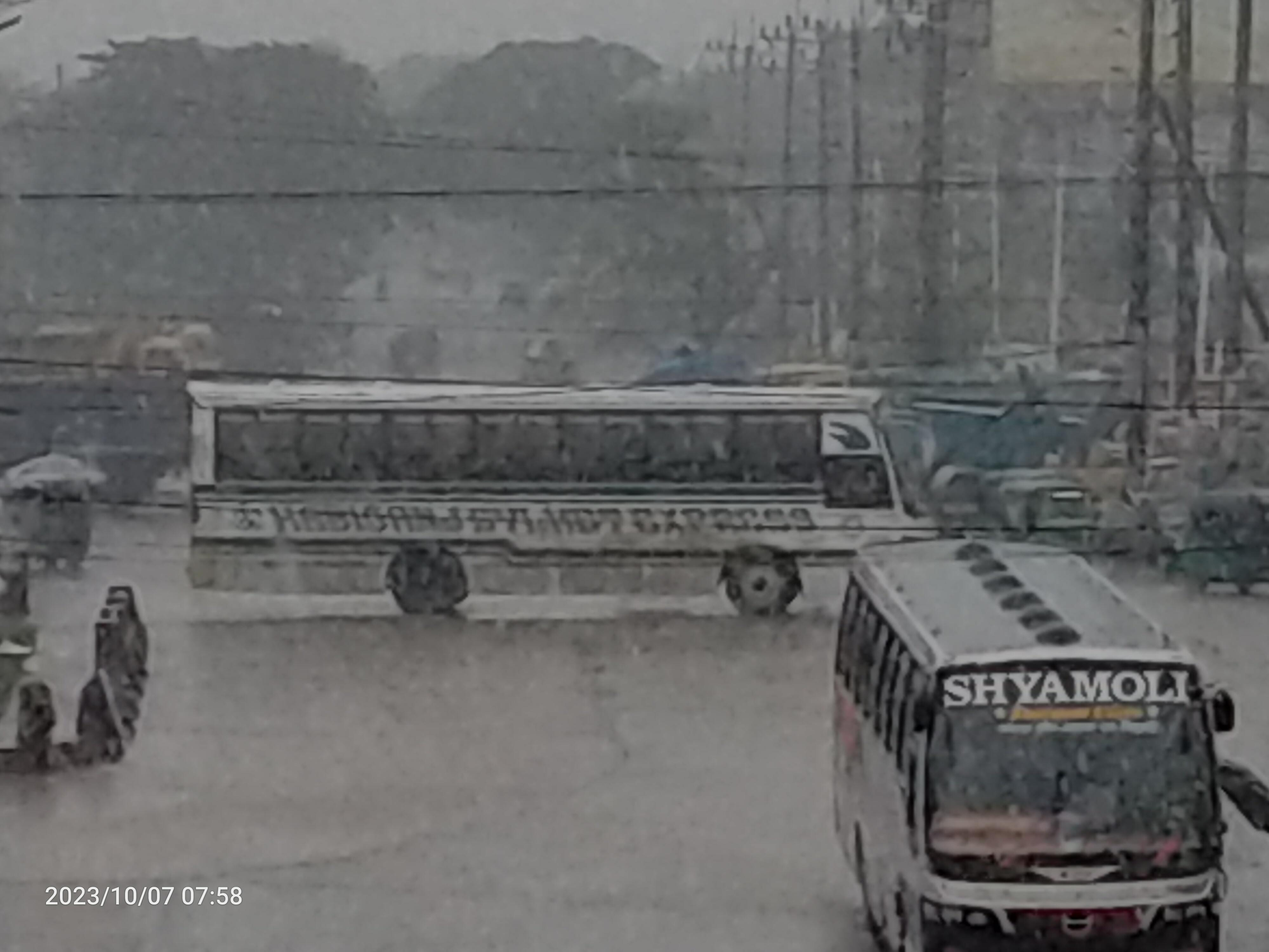Bus: (171, 353, 973, 615), (819, 529, 1269, 952)
